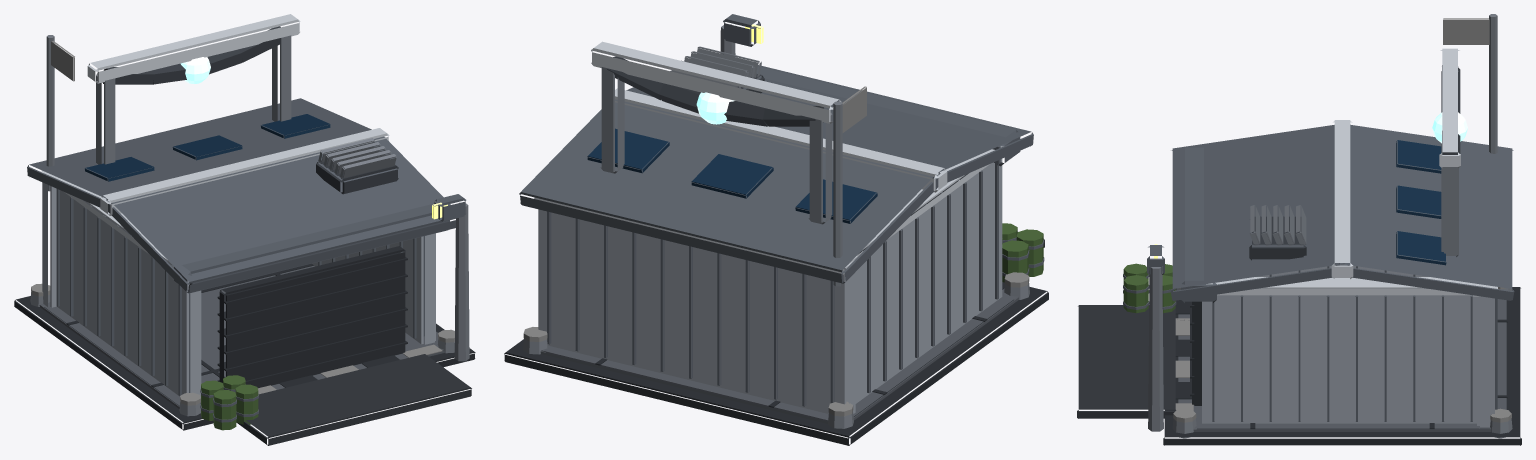
Rendered from con_works.glb.
3 renders of one model, left to right at view 1: azimuth 30°, elevation 25°; view 2: azimuth 150°, elevation 25°; view 3: azimuth 270°, elevation 25°, orthographic. The views are drawn at different scales.
Parts seen in each view (by area): view 1: body; view 2: body; view 3: body.
Boxes of the visible parts, bbox=[...] form: body: bbox=[14, 14, 475, 445]; body: bbox=[504, 14, 1048, 445]; body: bbox=[1077, 14, 1521, 445].
Size of the model in its own units: 112 by 100 by 139.
